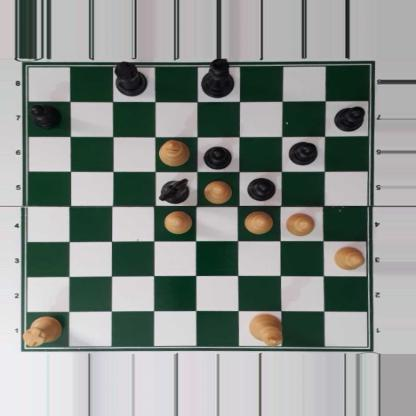black-king: (199, 58, 235, 99)
black-knight: (159, 177, 190, 204)
black-pawn: (333, 105, 365, 132), (29, 103, 60, 128), (246, 176, 276, 201), (202, 144, 232, 169), (288, 141, 317, 165)
black-rook: (113, 61, 149, 95)
white-bishop: (158, 137, 189, 167)
white-king: (248, 312, 283, 346)
white-pawn: (201, 179, 233, 203), (285, 212, 316, 236), (333, 246, 365, 269), (244, 210, 273, 234), (163, 211, 192, 234)
white-rook: (22, 315, 64, 346)
